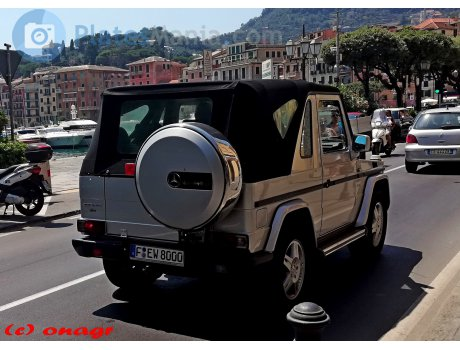License Plates: (134, 245, 184, 261)
